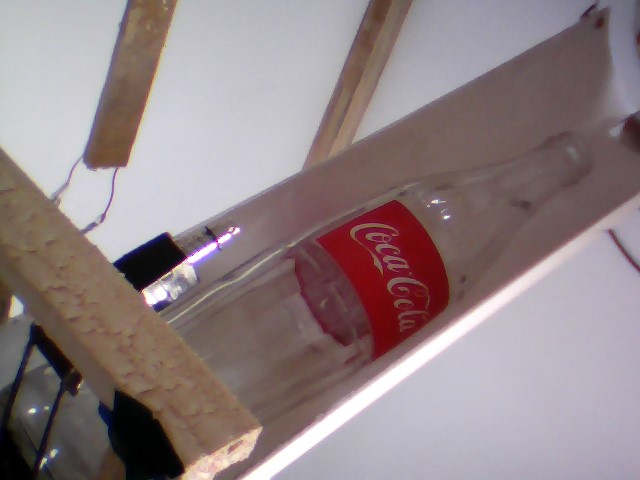vidrio: (180, 124, 607, 440)
